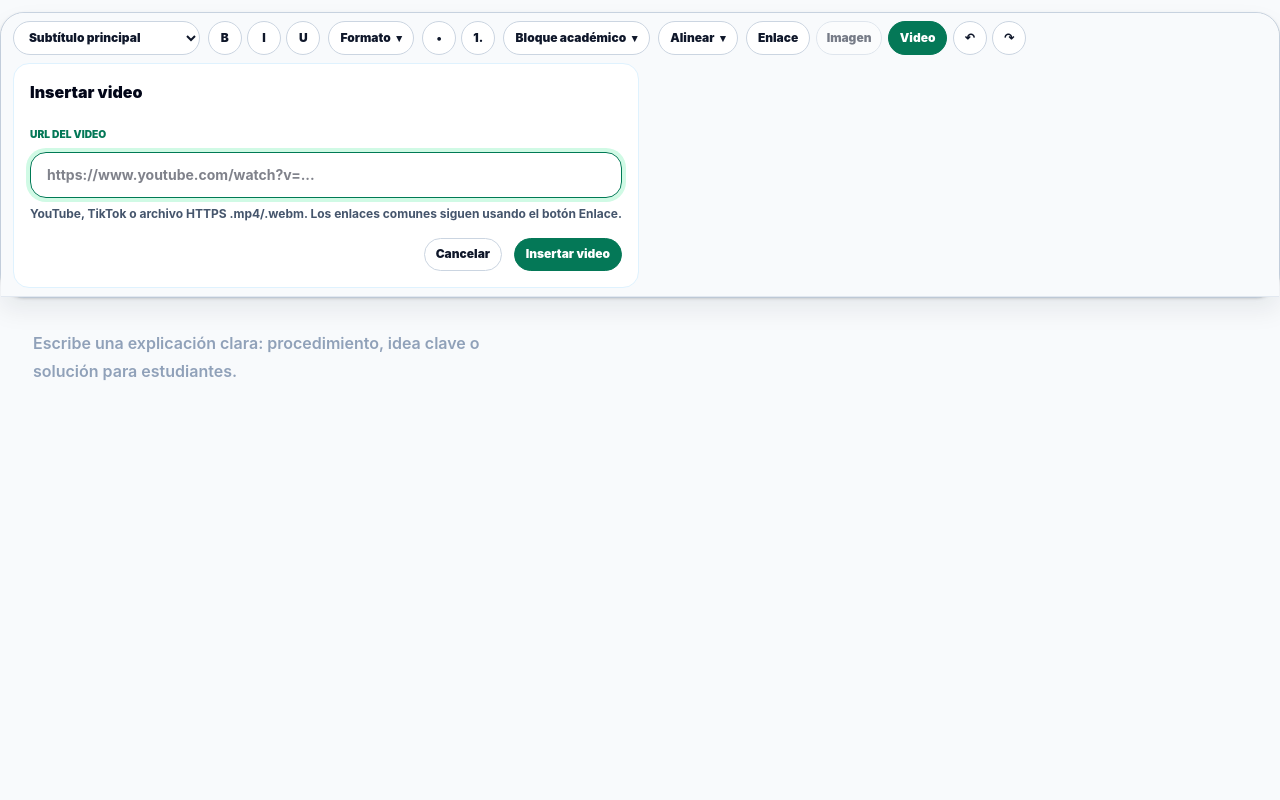
it: AcademicPostEditor › shows clear validation errors for unsupported videos
The width and height of the screenshot is (1280, 800).
In the field labelled "URL del video": (326,175) [30,152,622,198], type "https://vm.tiktok.com/ZM123/"
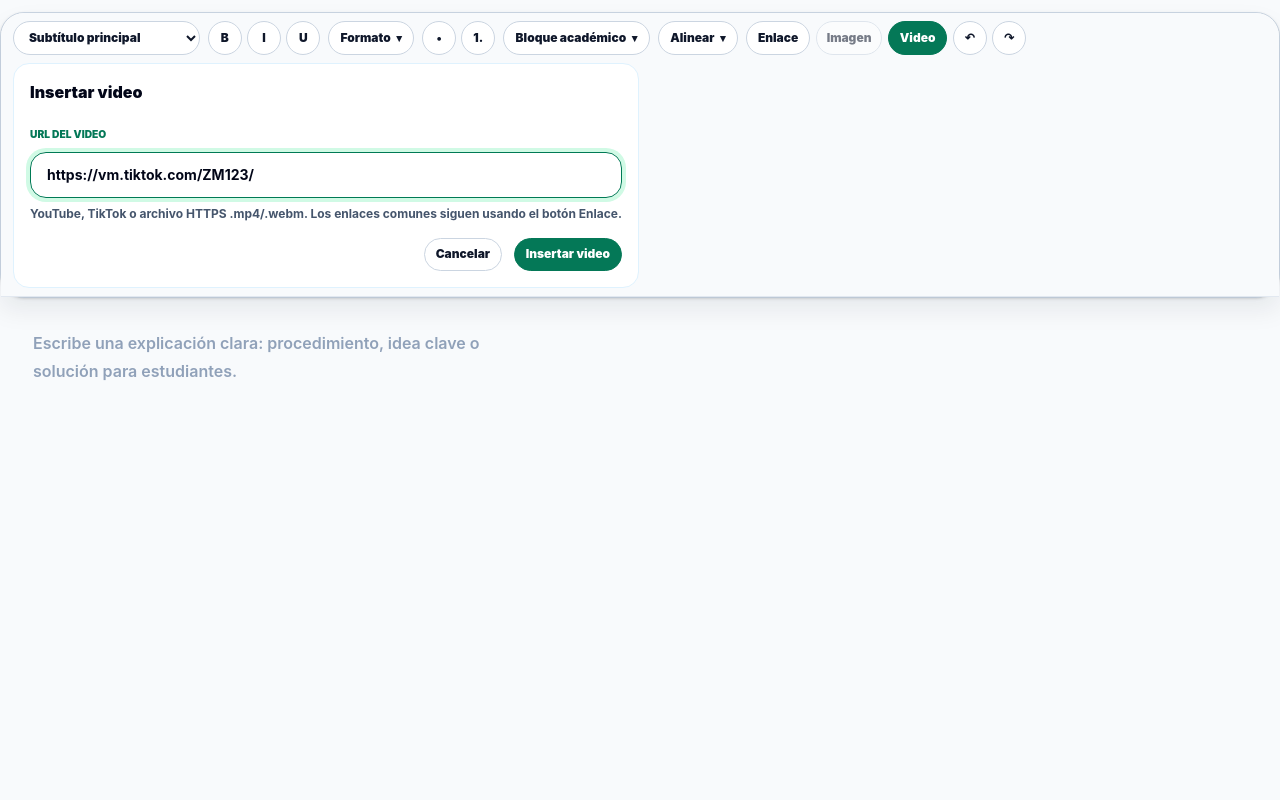
Click the button with class "editor-button-primary": (568,254) [514,238,622,271]
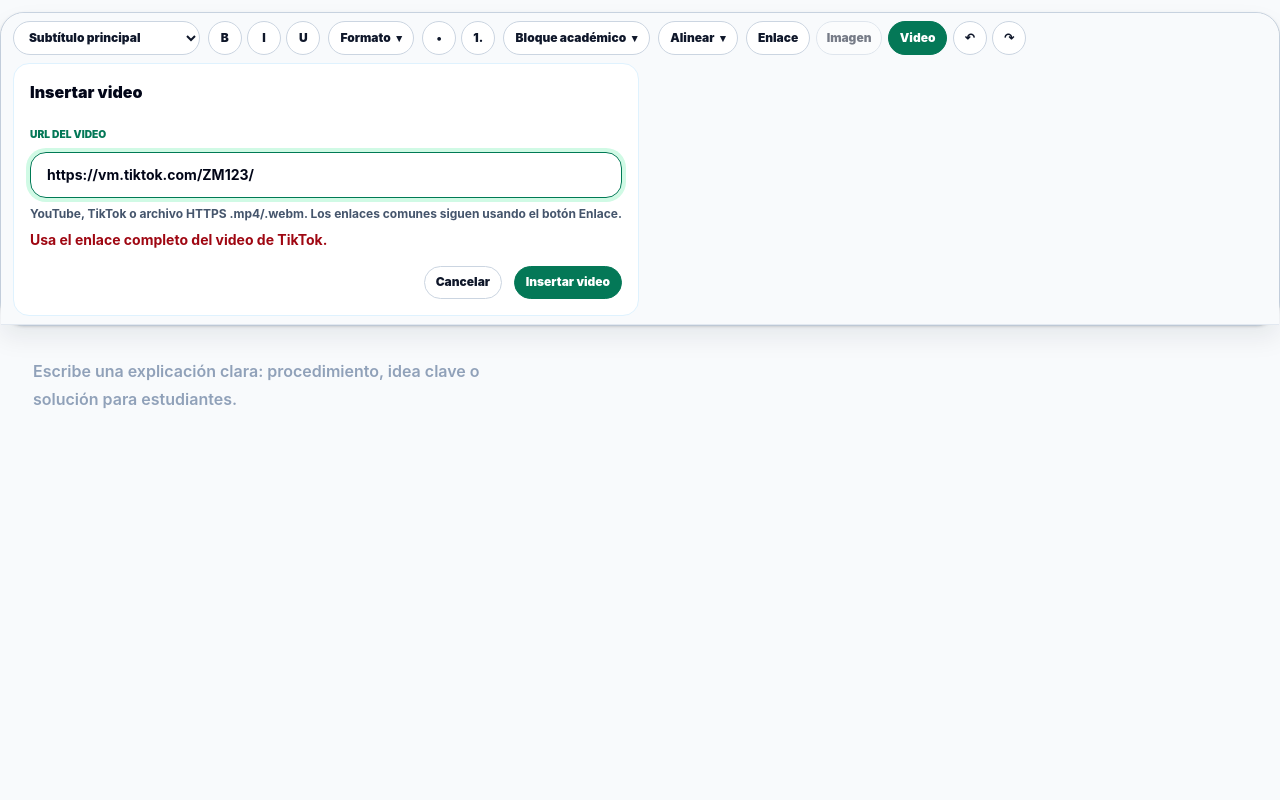
Check: the text "Usa el enlace completo del video de TikTok." is shown, box [30,231,327,248]
Replace the text in the field labelled "URL del video" with "javascript:alert(1)": (326,175) [30,152,622,198]
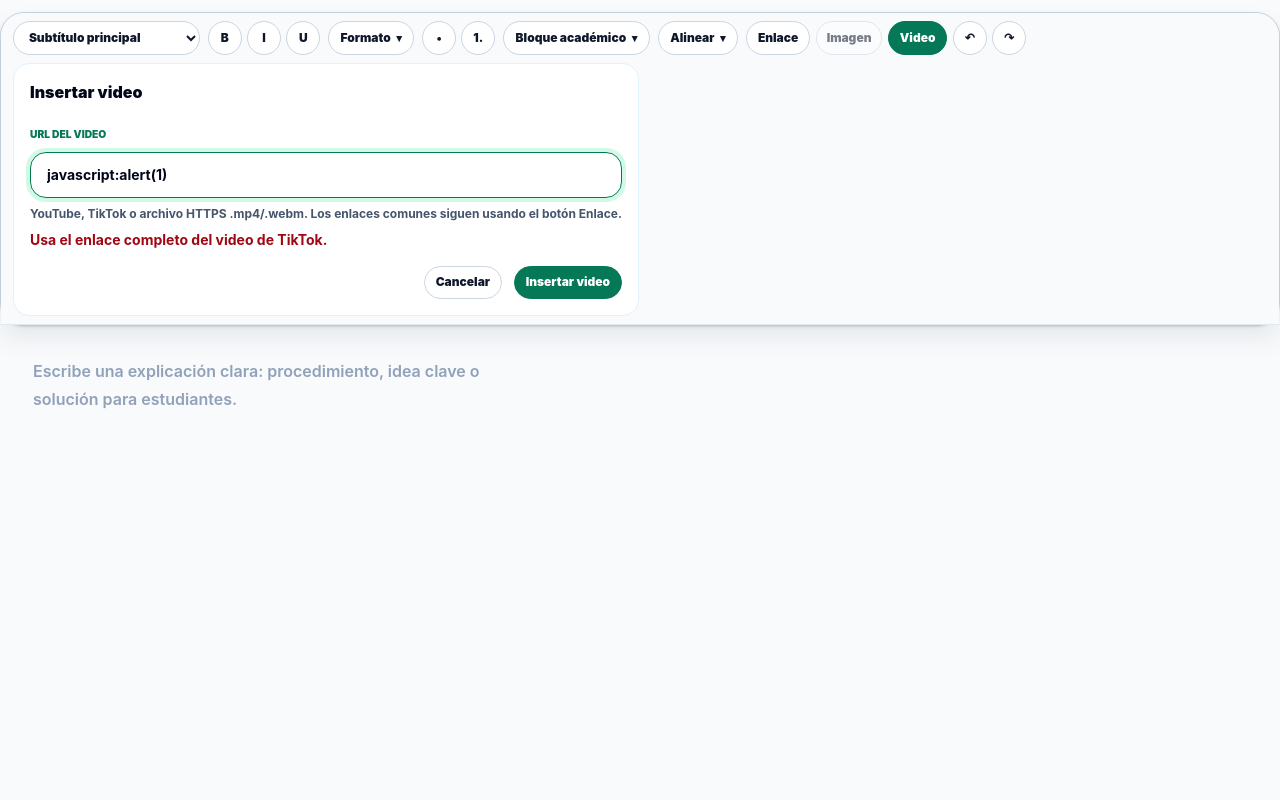
Click the button with class "editor-button-primary": (568,282) [514,266,622,299]
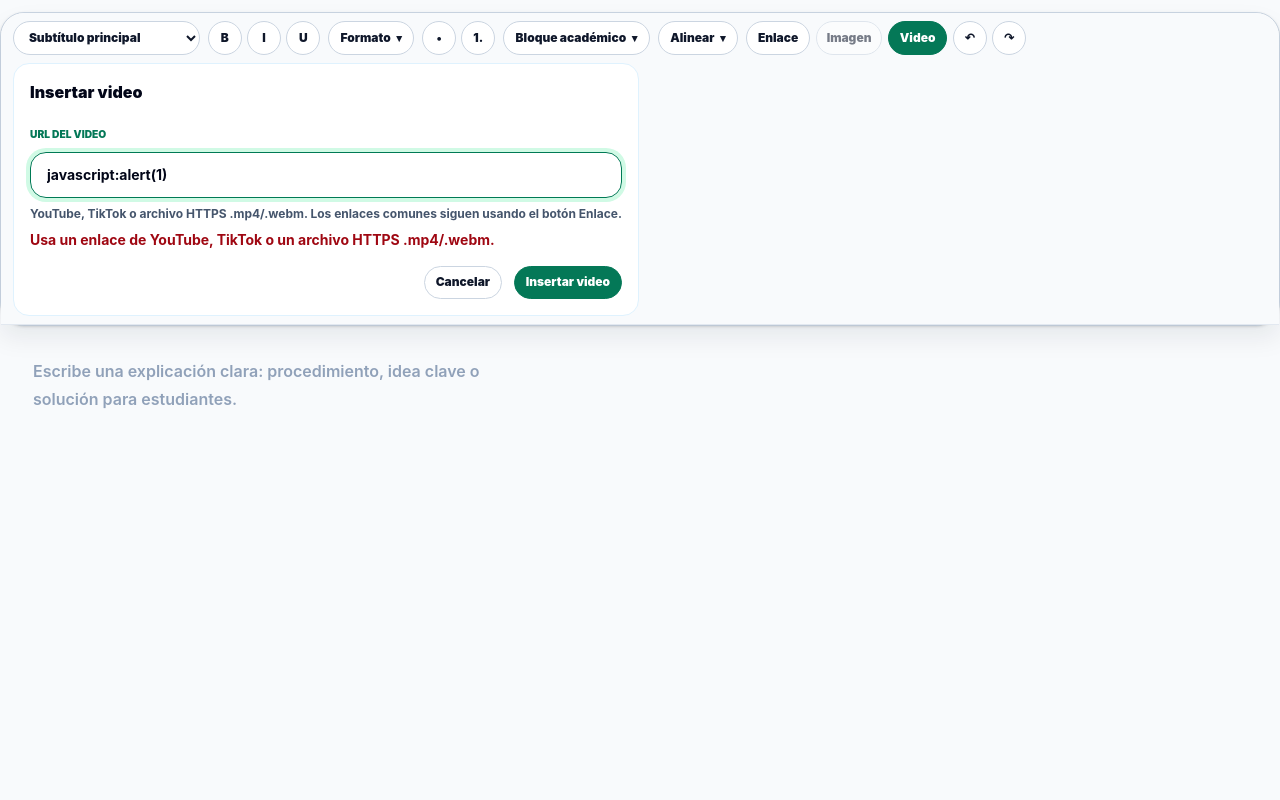
Check: the text "Usa un enlace de YouTube, TikTok o un archivo HTTPS .mp4/.webm." is shown, box [30,231,495,248]
